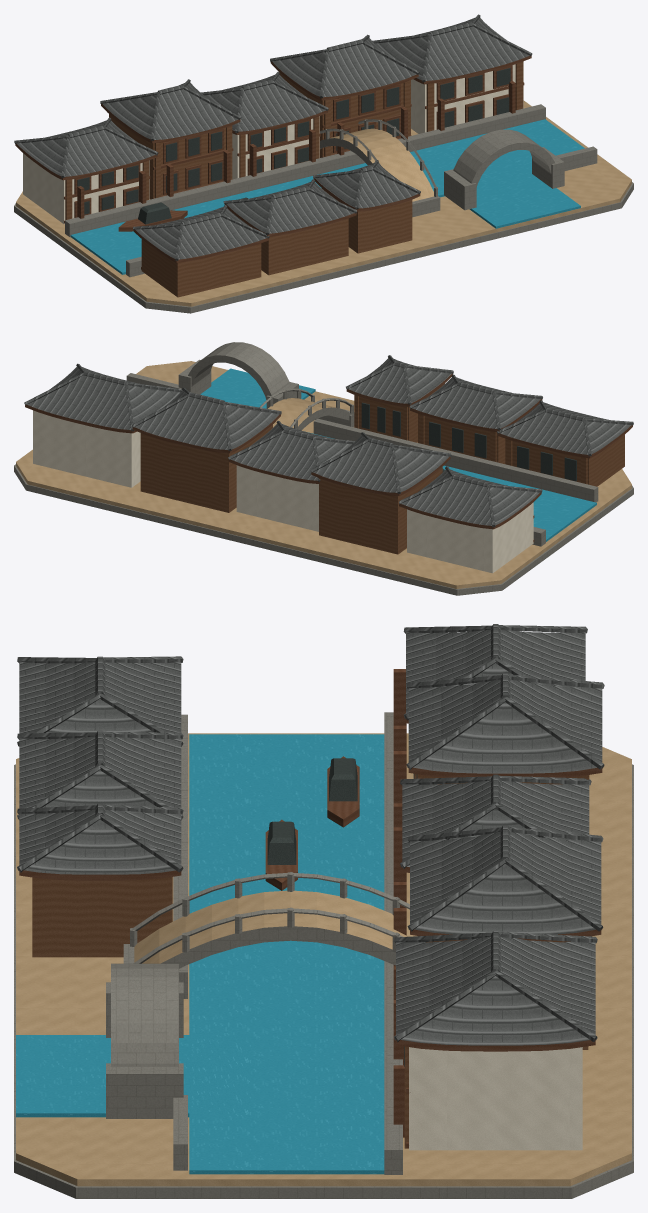
Rendered from wuzhen.glb.
The picture shows the model from 3 angles, top to bottom: view 1: azimuth 30°, elevation 25°; view 2: azimuth 150°, elevation 25°; view 3: azimuth 270°, elevation 25°; orthographic projection. The views are drawn at different scales.
Visible parts, largest first — view 1: 乌镇; view 2: 乌镇; view 3: 乌镇.
Boxes of the visible parts, x1,y1,x2,y2 form: 乌镇: (14,14,633,313); 乌镇: (14,342,633,595); 乌镇: (14,624,633,1198).
Bounding box in the file's own units: 13.1 × 2.68 × 7.65.
8 materials, 8 textured.
